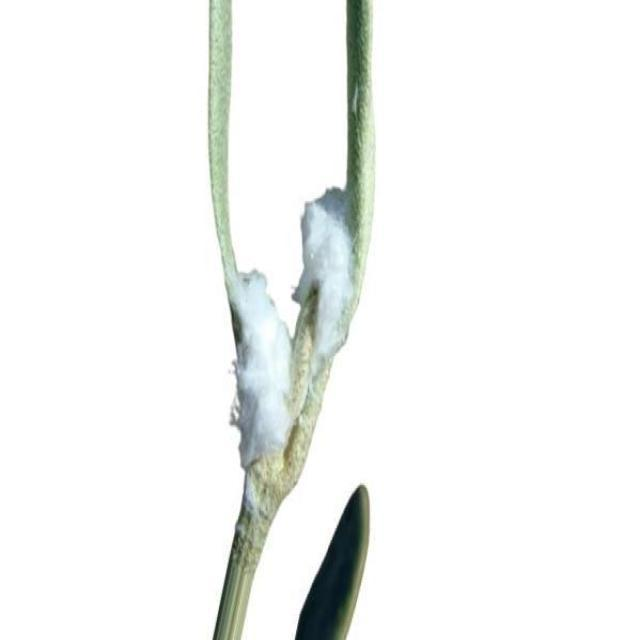Psyllid: (226, 268, 306, 464), (292, 188, 366, 372)
